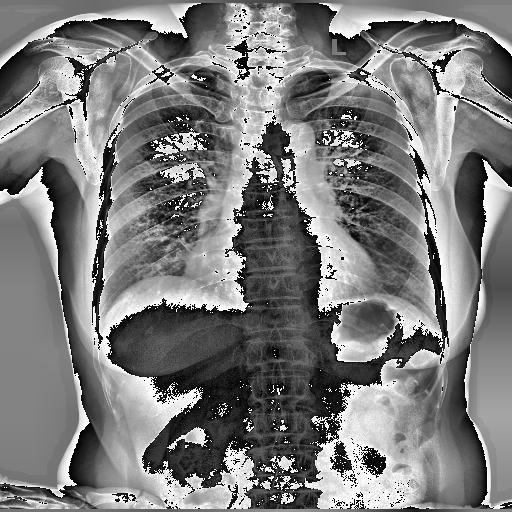0- Aortic enlargement: (265, 120, 321, 175), (263, 119, 317, 169), (269, 121, 317, 153)
3- Cardiomegaly: (180, 238, 384, 300), (180, 248, 384, 304), (178, 243, 382, 298)
